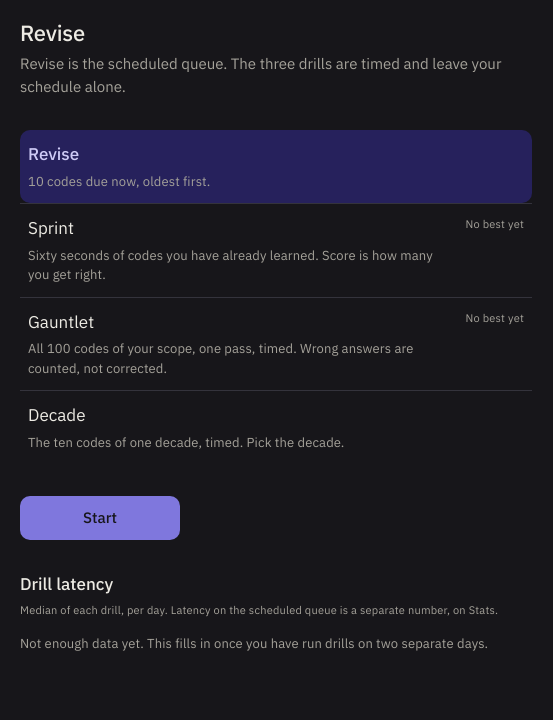
Test: ReviseScreen with a learned block › counts a run in before the first prompt, and saves nothing if it is aborted
Expected: the heading "Revise" is shown, top-left (20, 18), bottom-right (85, 47)
Click the radio button labelled "Gauntlet" at (276, 344), box top-left (20, 298), bottom-right (532, 390)
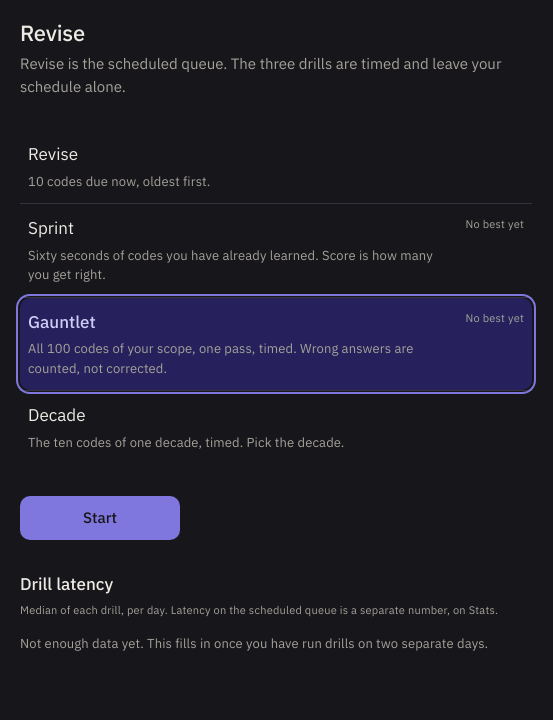
Click the button "Start" at (100, 518), box top-left (20, 496), bottom-right (180, 540)
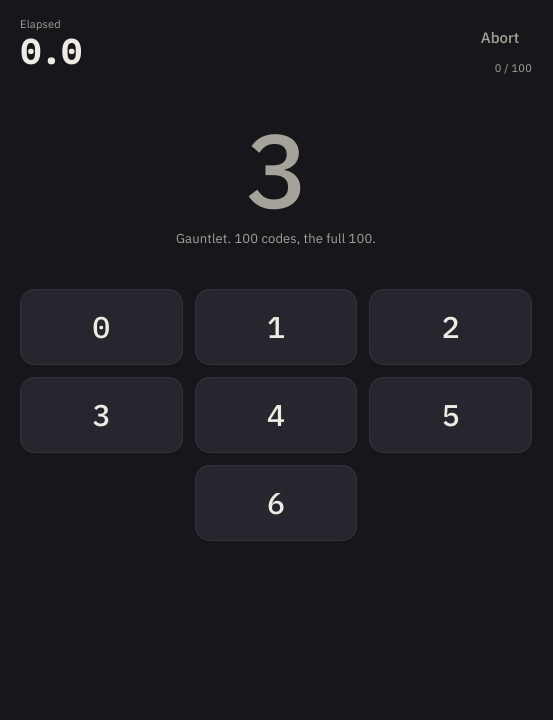
Result: the element named "Starting in 3" is shown at top-left (245, 101), bottom-right (307, 237)
Result: the button "0" is disabled at top-left (20, 288), bottom-right (183, 364)
Result: the text "Gauntlet. 100 codes, the full 100." is shown at top-left (176, 229), bottom-right (376, 248)
Click the button "Abort" at (500, 38), box top-left (468, 16), bottom-right (532, 60)
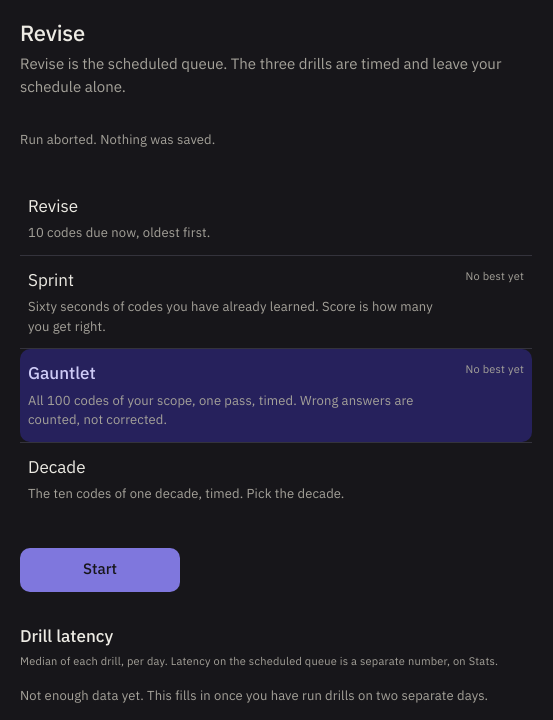
Result: the text "Run aborted. Nothing was saved." is shown at top-left (20, 131), bottom-right (215, 148)
Result: the heading "Revise" is shown at top-left (20, 18), bottom-right (85, 47)
Result: the radio button labelled "Gauntlet" is checked at top-left (20, 349), bottom-right (532, 442)
